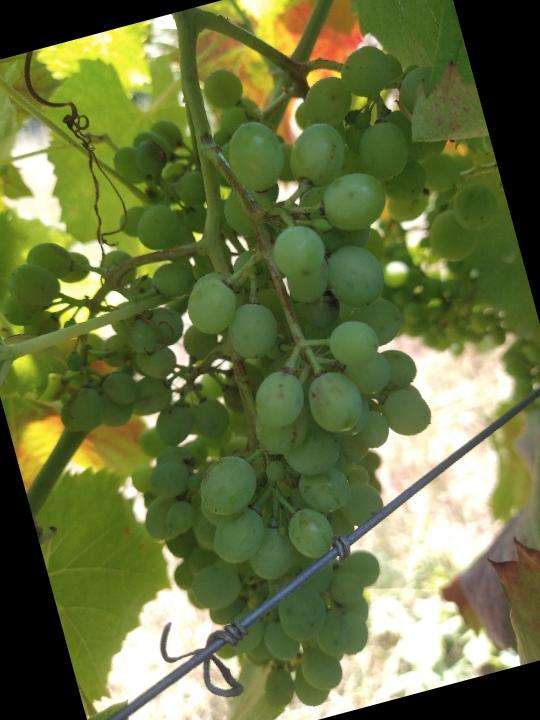grape: (0, 6, 540, 720)
